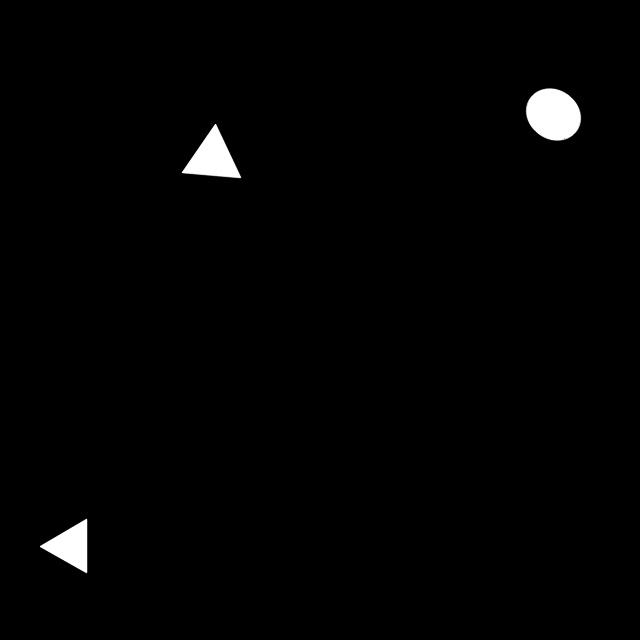Circle: (520, 84, 588, 147)
Triangle: (171, 113, 248, 195), (27, 506, 104, 584)
